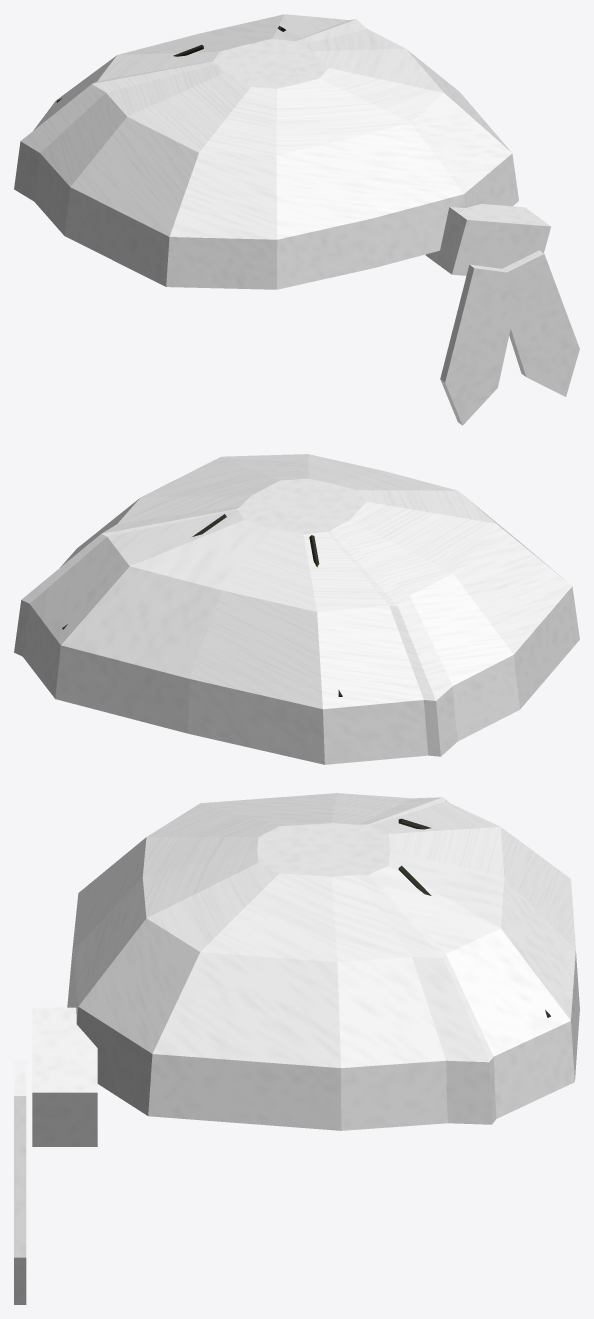
Rendered from head_bandana.glb.
3 views of the same model, one above another, from view 1: azimuth 30°, elevation 25°; view 2: azimuth 150°, elevation 25°; view 3: azimuth 270°, elevation 25° (orthographic). The views are drawn at different scales.
Parts seen in each view (by area): view 1: head_bandana_head_LOD0_RAID_cloth, head_bandana_head_LOD1_RAID_cloth; view 2: head_bandana_head_LOD0_RAID_cloth, head_bandana_head_LOD1_RAID_cloth; view 3: head_bandana_head_LOD0_RAID_cloth, head_bandana_head_LOD1_RAID_cloth.
Part boxes in pixels (left/top/right/bottom): head_bandana_head_LOD0_RAID_cloth: left=33, top=14, right=579, bottom=425; head_bandana_head_LOD1_RAID_cloth: left=14, top=19, right=550, bottom=274; head_bandana_head_LOD0_RAID_cloth: left=22, top=454, right=579, bottom=764; head_bandana_head_LOD1_RAID_cloth: left=14, top=480, right=457, bottom=756; head_bandana_head_LOD0_RAID_cloth: left=14, top=793, right=579, bottom=1304; head_bandana_head_LOD1_RAID_cloth: left=32, top=797, right=496, bottom=1146.
Bounding box in the file's own units: 0.282 × 0.1967 × 0.277.
2 materials, 2 textured.
